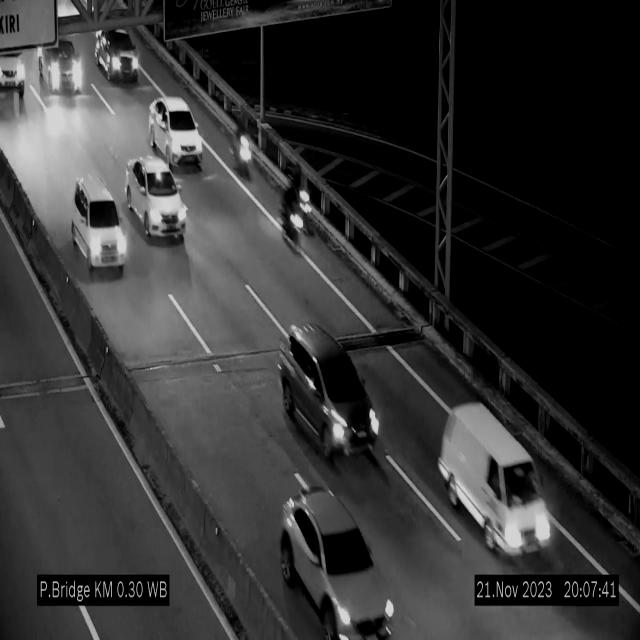Car: (438, 403, 552, 555), (280, 488, 394, 638), (278, 322, 380, 468), (72, 176, 128, 274), (126, 156, 186, 240), (149, 96, 203, 168), (94, 29, 140, 84)
Motorcycle: (280, 181, 306, 258), (290, 159, 316, 223), (230, 120, 253, 184)
